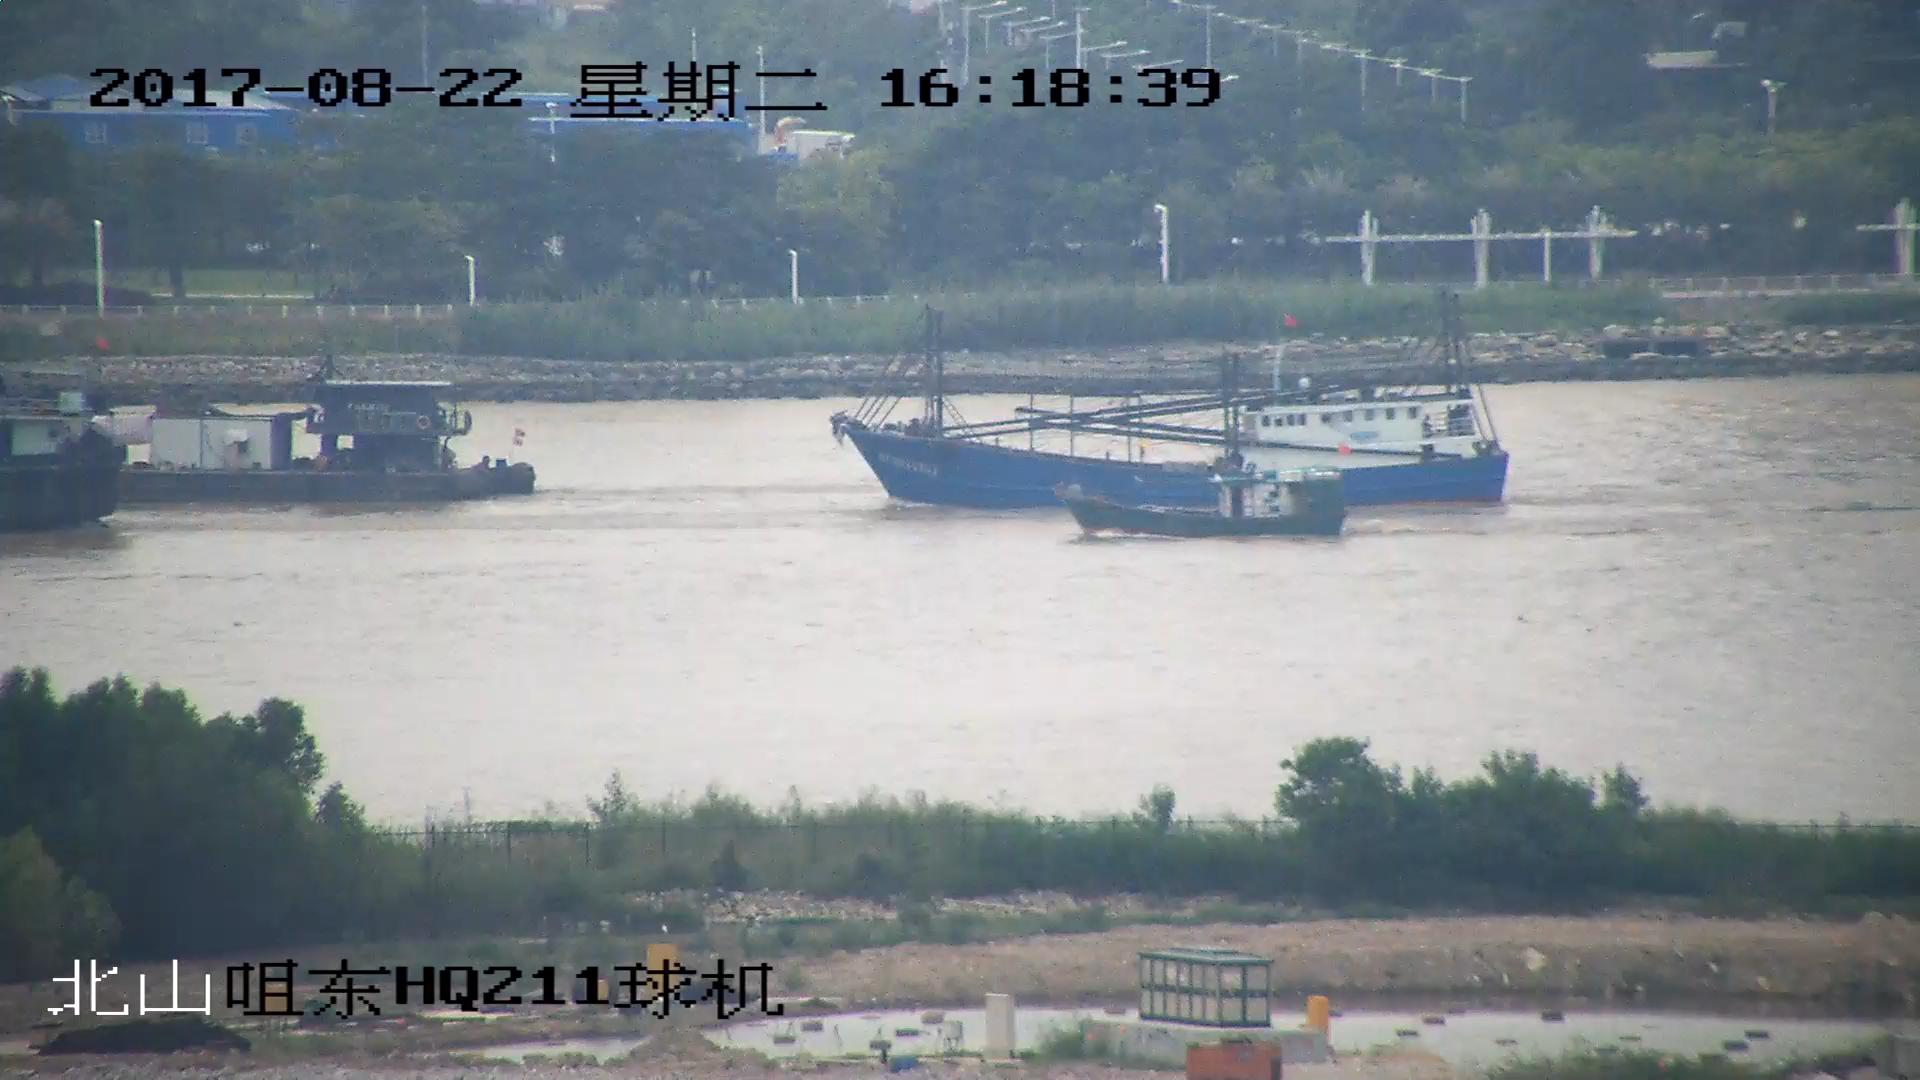bulk cargo carrier: (1, 352, 538, 507), (1, 398, 150, 529)
fishing boat: (831, 288, 1510, 510), (1065, 467, 1350, 542)
